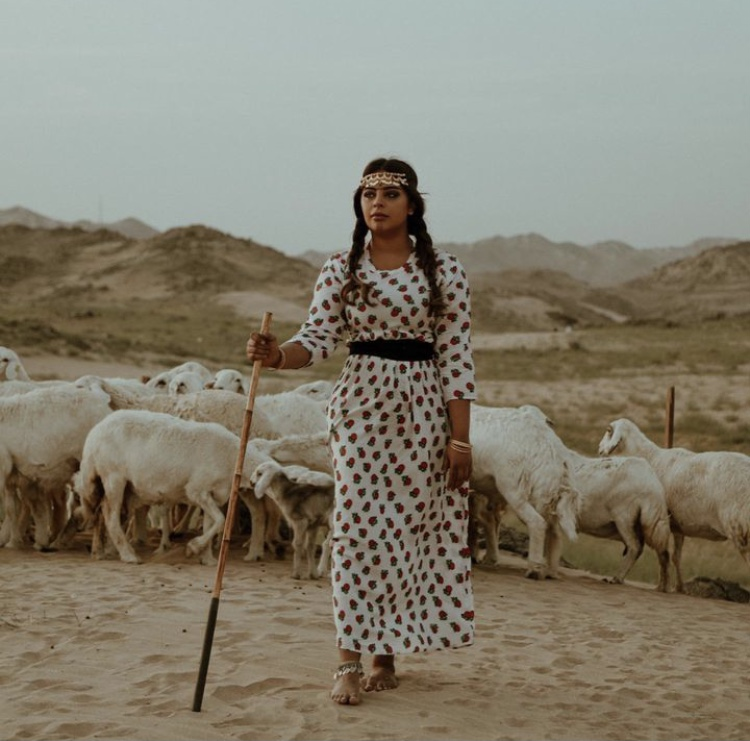Saudi_Founding_Day: (190, 154, 483, 722)
